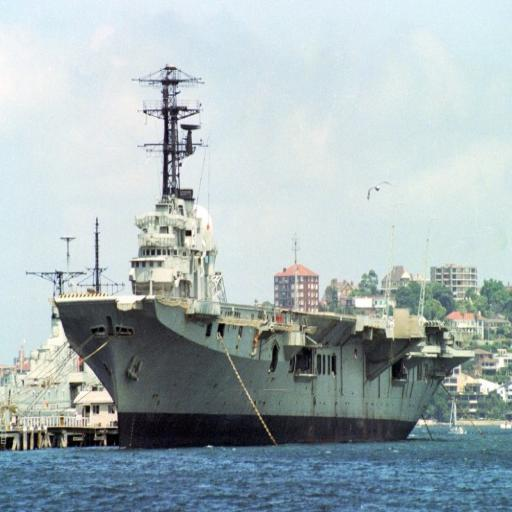Portanaves: (54, 54, 480, 453)
